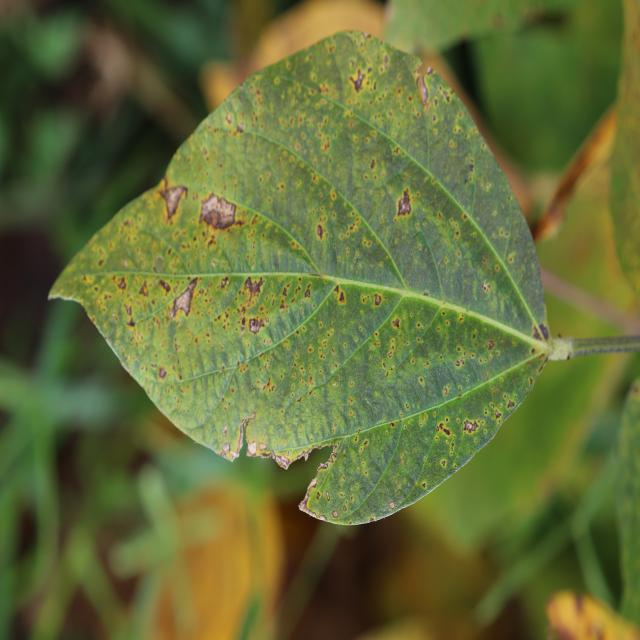Bacterial_Blight: (216, 415, 250, 462), (198, 192, 240, 230), (157, 178, 187, 222), (172, 283, 198, 331), (414, 66, 433, 106), (243, 275, 265, 306), (396, 189, 412, 217), (349, 69, 365, 92), (272, 453, 291, 469), (248, 318, 266, 334), (260, 375, 274, 393), (463, 419, 479, 434), (435, 422, 451, 437), (123, 303, 134, 324), (538, 322, 550, 340), (158, 278, 171, 294), (138, 280, 149, 297), (317, 462, 329, 476), (168, 305, 177, 320), (117, 277, 127, 290), (316, 224, 324, 239), (158, 366, 167, 379), (220, 277, 229, 289), (374, 293, 382, 306), (392, 317, 400, 329), (304, 285, 311, 298), (506, 399, 515, 409), (487, 339, 495, 350), (482, 282, 490, 293), (338, 291, 345, 303), (236, 122, 244, 132), (325, 489, 331, 501), (331, 510, 339, 519), (495, 410, 502, 420), (370, 158, 376, 169)
Soybean: (51, 32, 616, 524)
